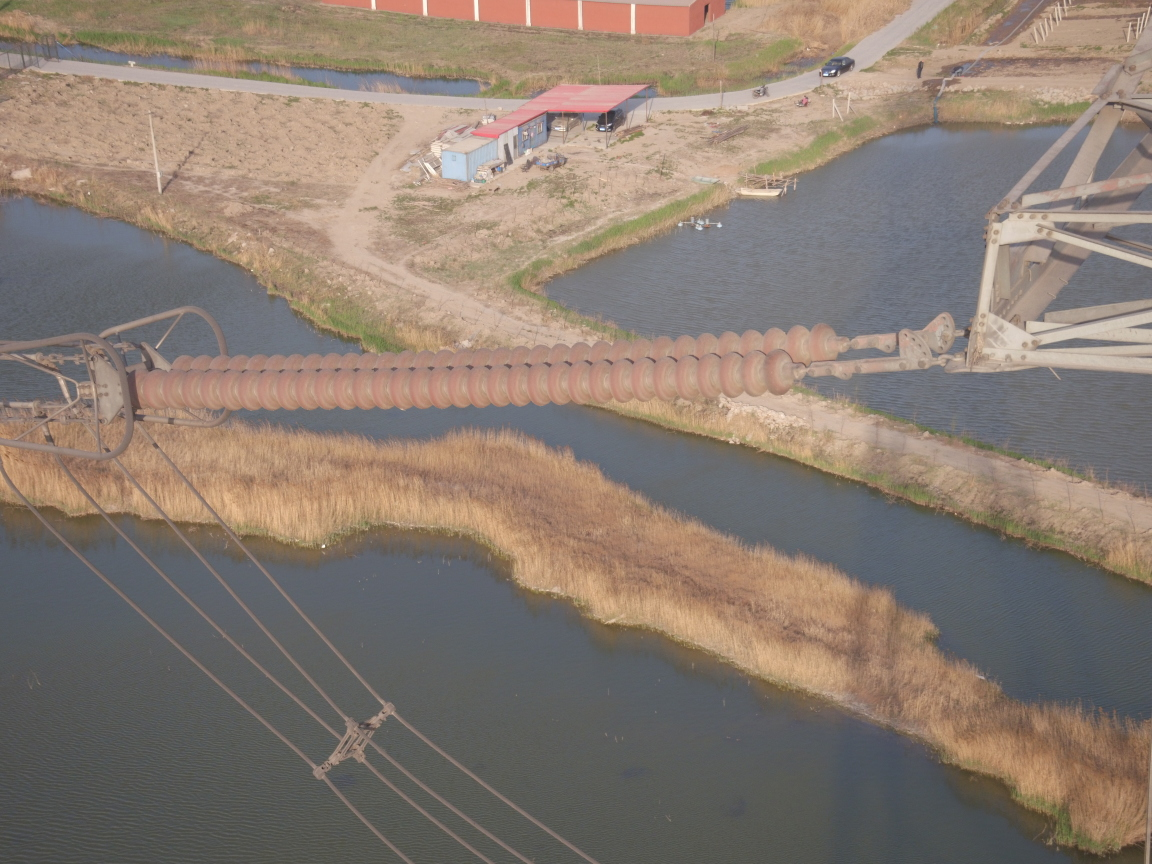insulator: (112, 320, 881, 412)
